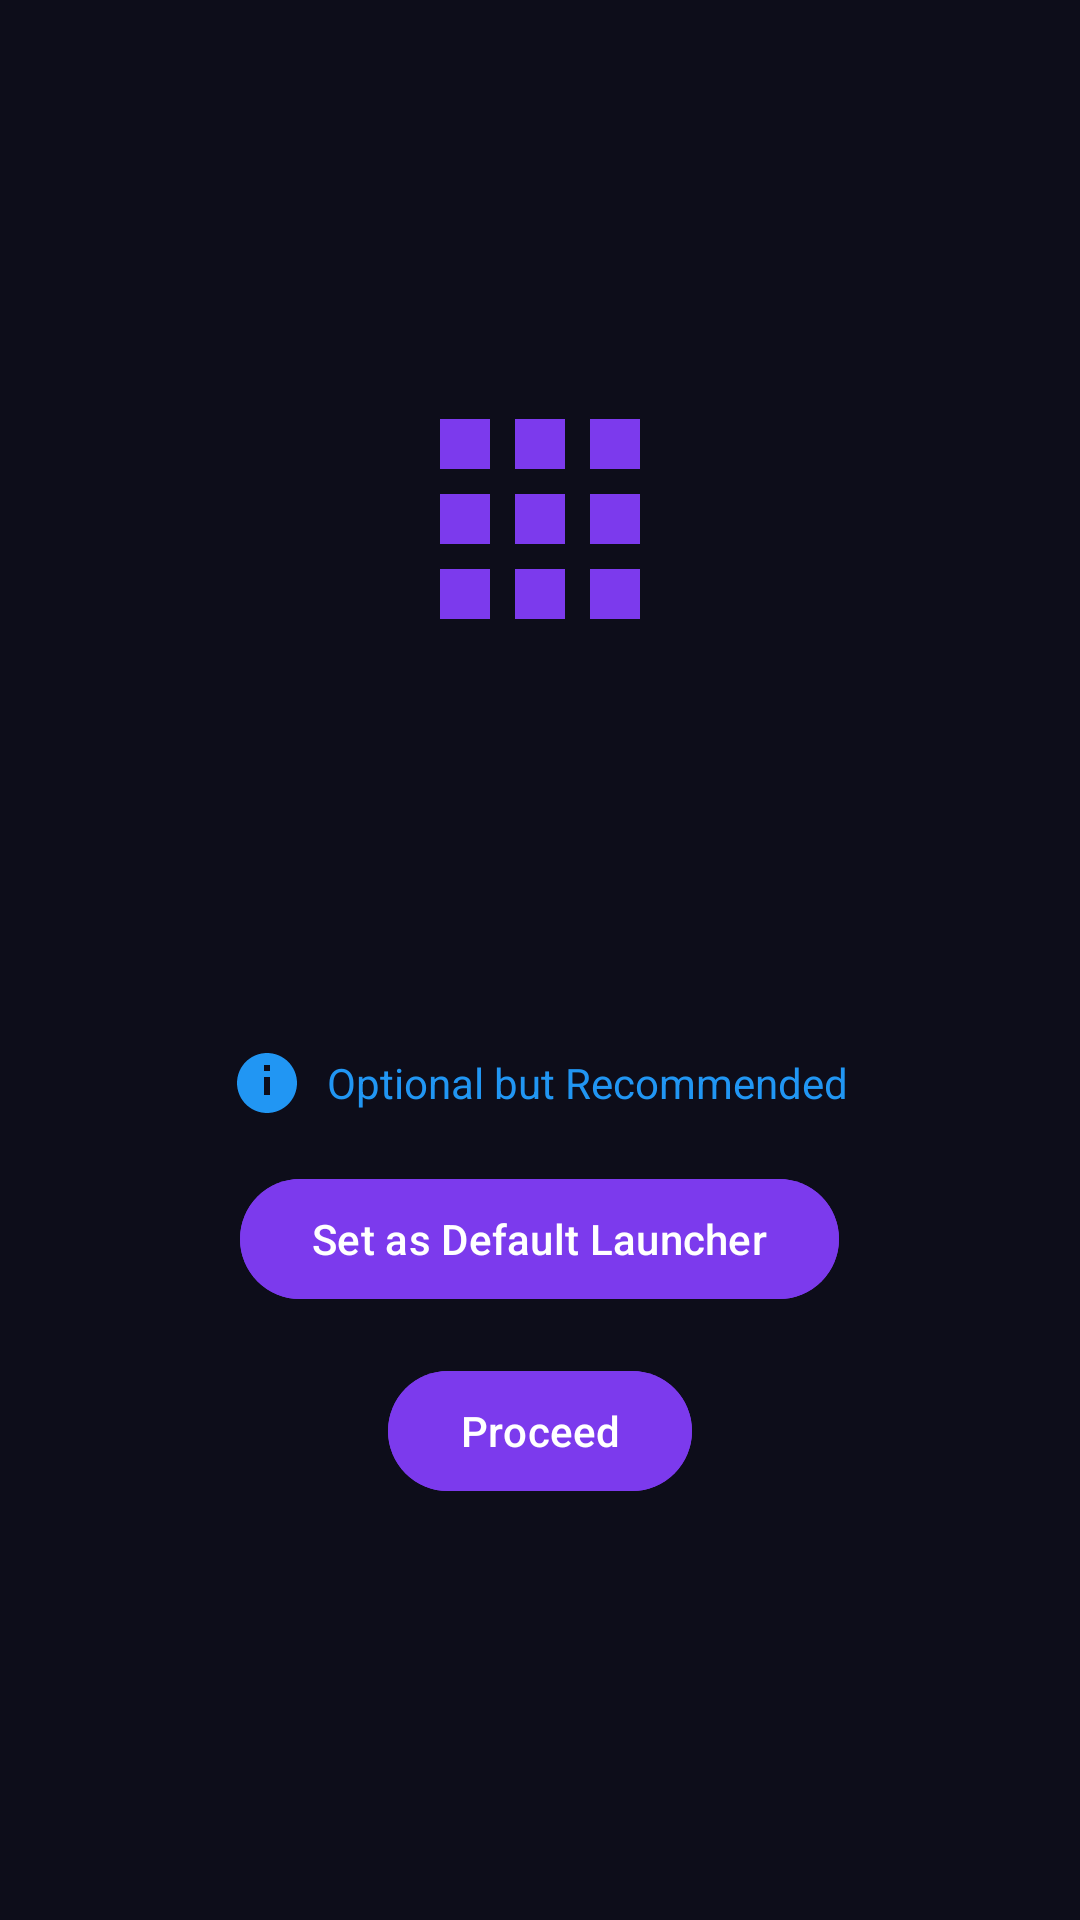

Icon bounding boxes for this 1080px×1920px phone screenshot, format (x1, y1, x2, y2):
info: (237, 1053, 297, 1113)
